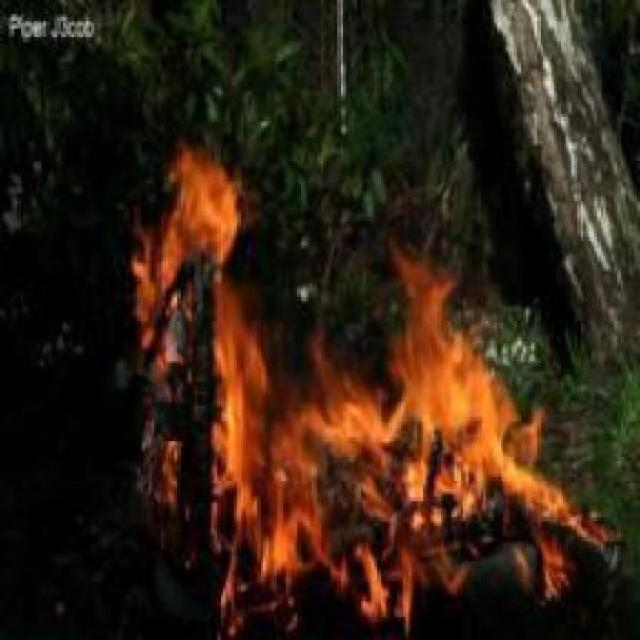fire: (272, 249, 558, 522), (136, 138, 266, 550)
